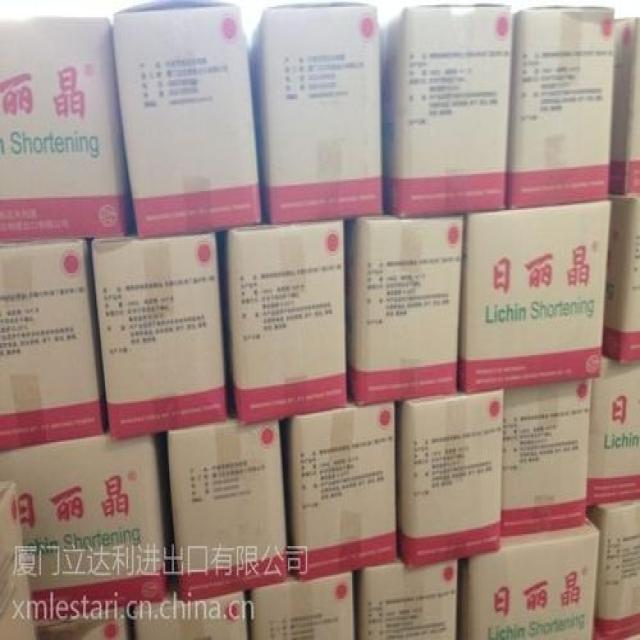box: (113, 0, 262, 237), (0, 425, 173, 623), (92, 213, 230, 440), (457, 196, 612, 396), (248, 2, 384, 225), (0, 19, 131, 244), (380, 3, 513, 218), (223, 205, 348, 423), (166, 406, 289, 604), (343, 207, 465, 406), (0, 241, 109, 452), (284, 386, 398, 584), (508, 7, 613, 210), (398, 384, 502, 572), (457, 514, 598, 640), (499, 379, 596, 536), (246, 555, 355, 640), (355, 553, 457, 640), (588, 352, 640, 505), (588, 497, 640, 640), (134, 577, 248, 640), (600, 198, 640, 362), (0, 481, 38, 640), (609, 19, 640, 198), (36, 613, 127, 640)
